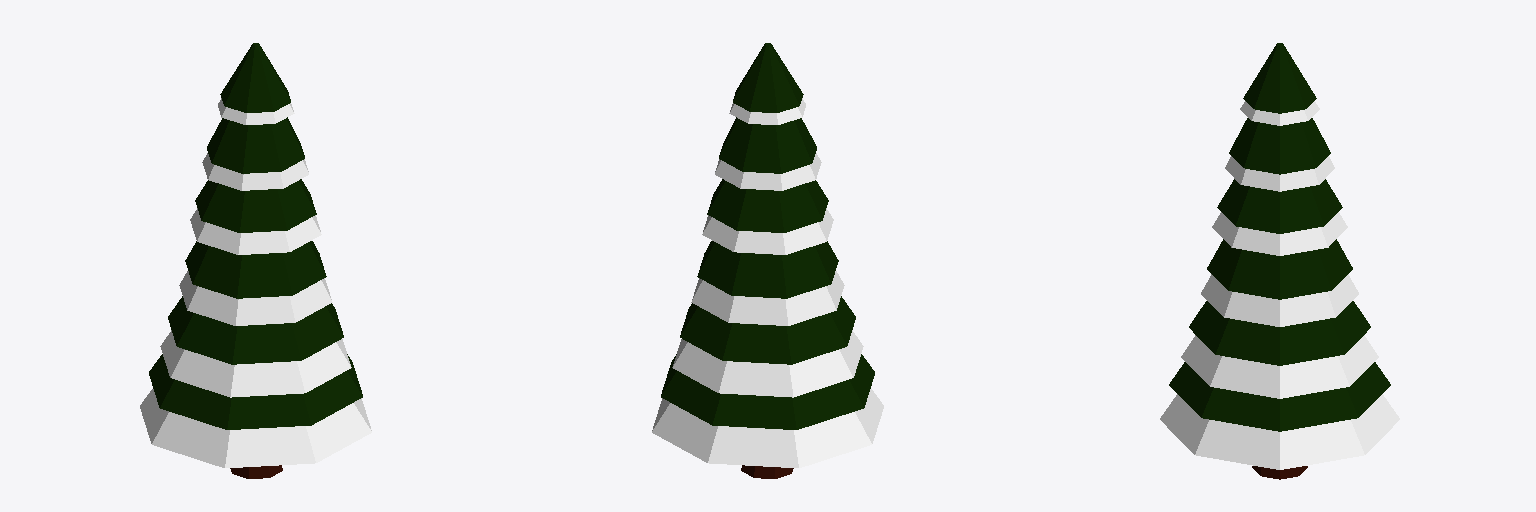
File: evergreen_snow.obj
The picture shows the model from 3 angles: view 1: azimuth 30°, elevation 25°; view 2: azimuth 150°, elevation 25°; view 3: azimuth 270°, elevation 25°; orthographic projection.
Visible parts, largest first — view 1: pCylinder6, pCylinder4; view 2: pCylinder6, pCylinder4; view 3: pCylinder6, pCylinder4.
Part boxes in pixels (left/top/right/bottom): pCylinder6: left=149, top=43, right=362, bottom=429; pCylinder4: left=140, top=98, right=371, bottom=467; pCylinder6: left=661, top=43, right=874, bottom=429; pCylinder4: left=652, top=98, right=883, bottom=467; pCylinder6: left=1169, top=43, right=1390, bottom=431; pCylinder4: left=1160, top=101, right=1399, bottom=469.
Size of the model in its own units: 8.68 by 16.84 by 8.68.